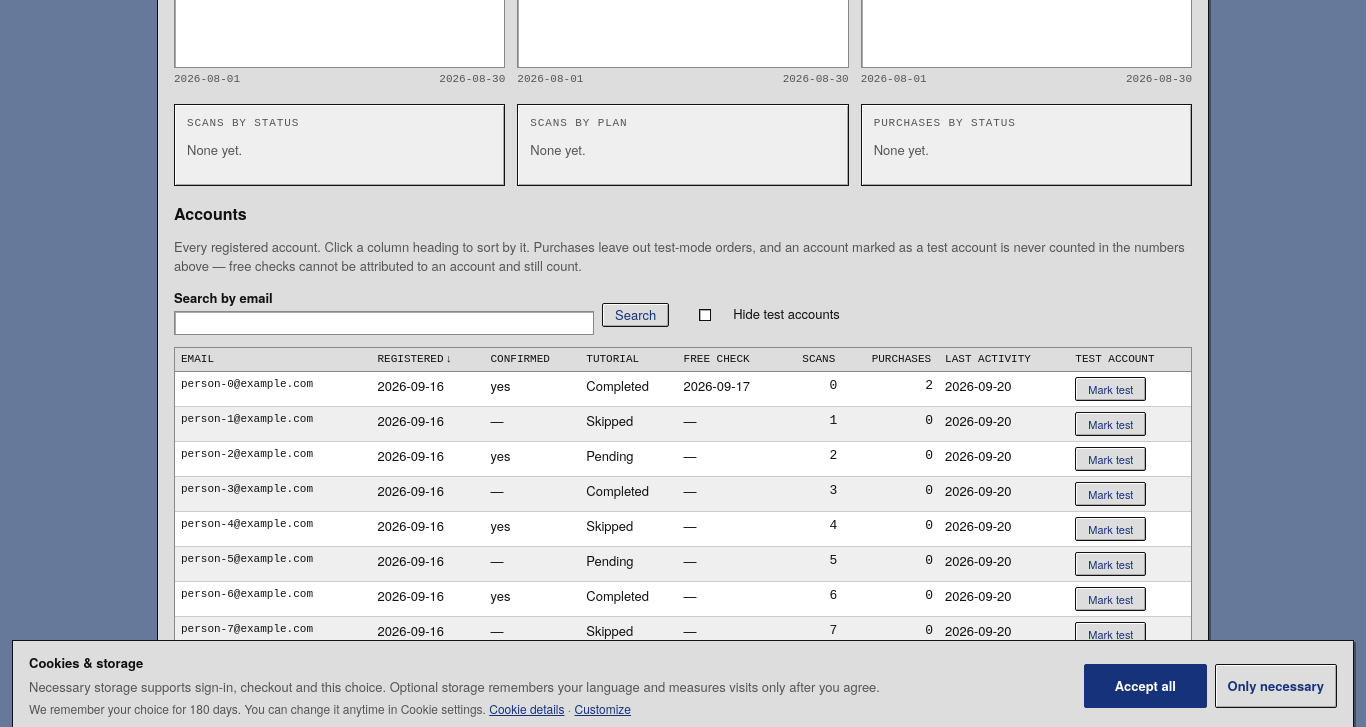
it: owner dashboard accounts list — test filter and sorting › Clear removes only the search, keeping the sort and the test filter
(page scrolled)
Expected: the text "person-0@example.com" is shown, [175,372,372,407]
Click the button "Scans" at (820, 359), box [802,353,837,365]
(page scrolled)
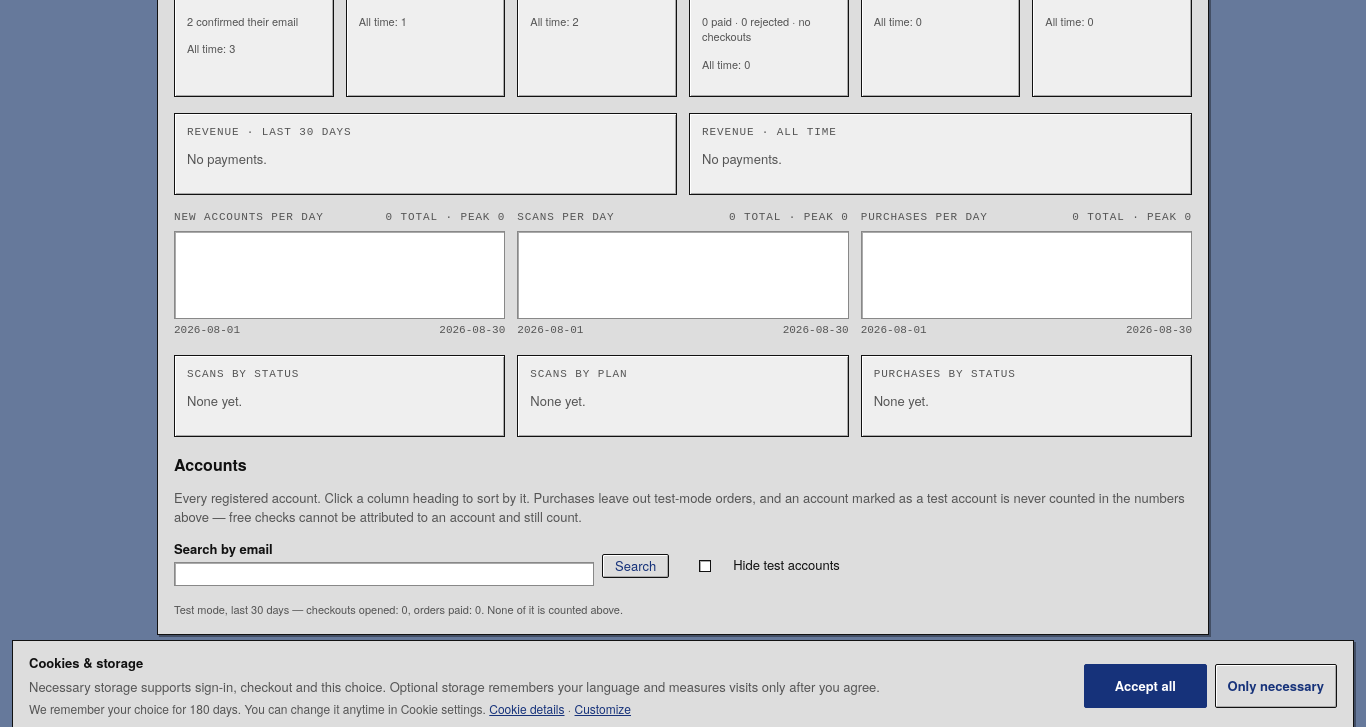
Click the checkbox labelled "Hide test accounts" at (769, 565), box [699,555,840,574]
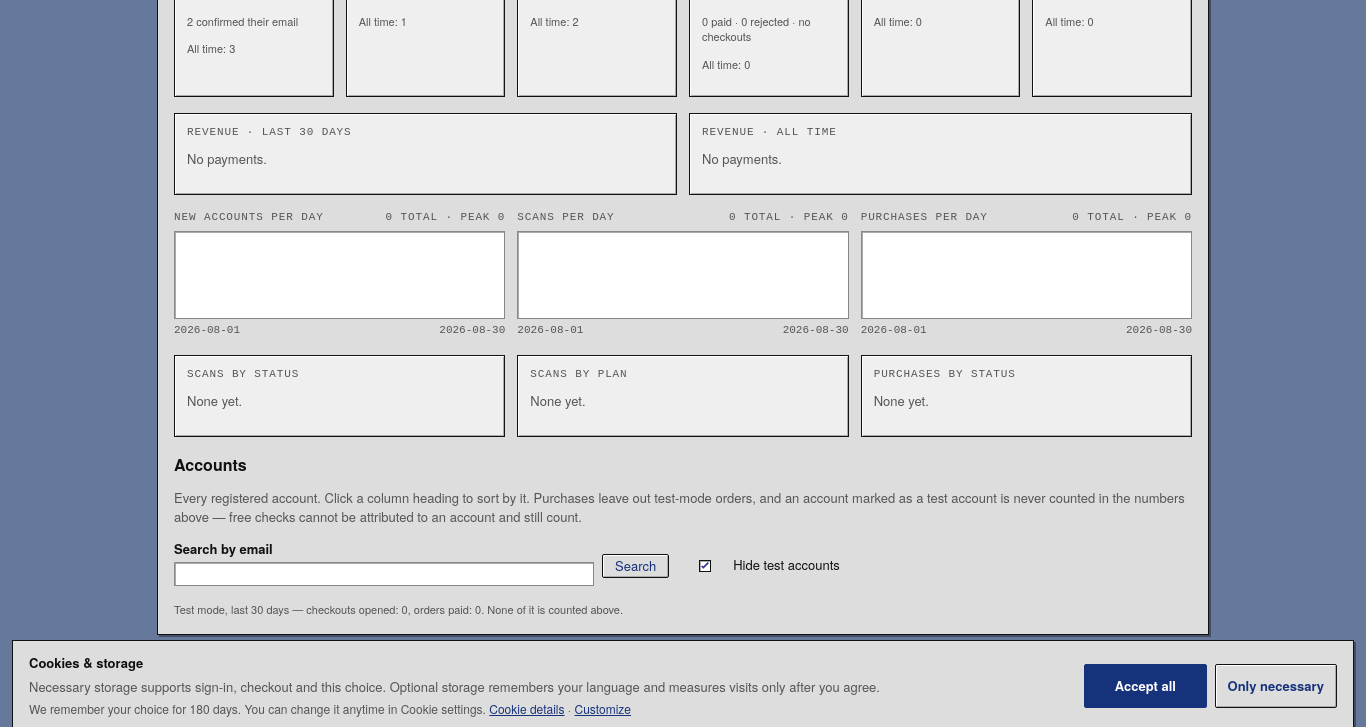
Type "person-1" into the field labelled "Search by email" at (384, 574), box [174,562,594,586]
(page scrolled)
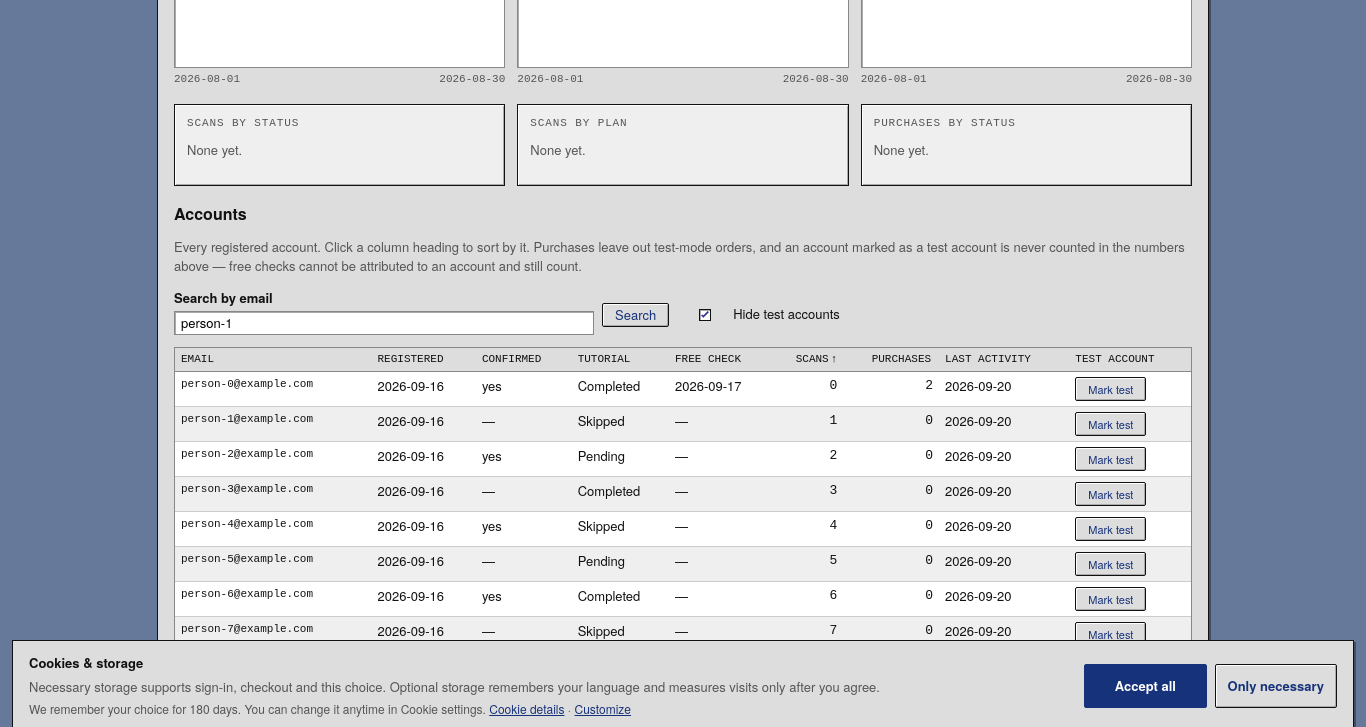
Click the button "Search" at (636, 315), box [602,303,669,327]
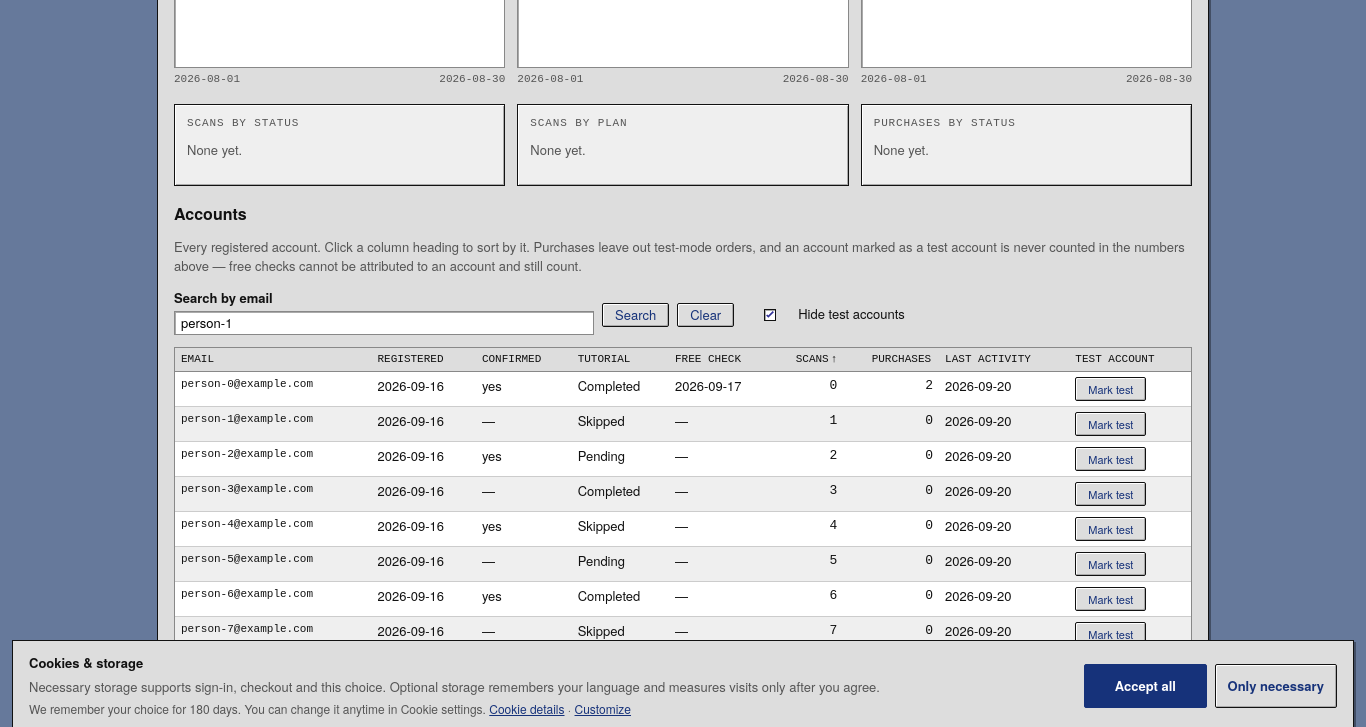
Click the button "Clear" at (706, 315), box [677,303,734,327]
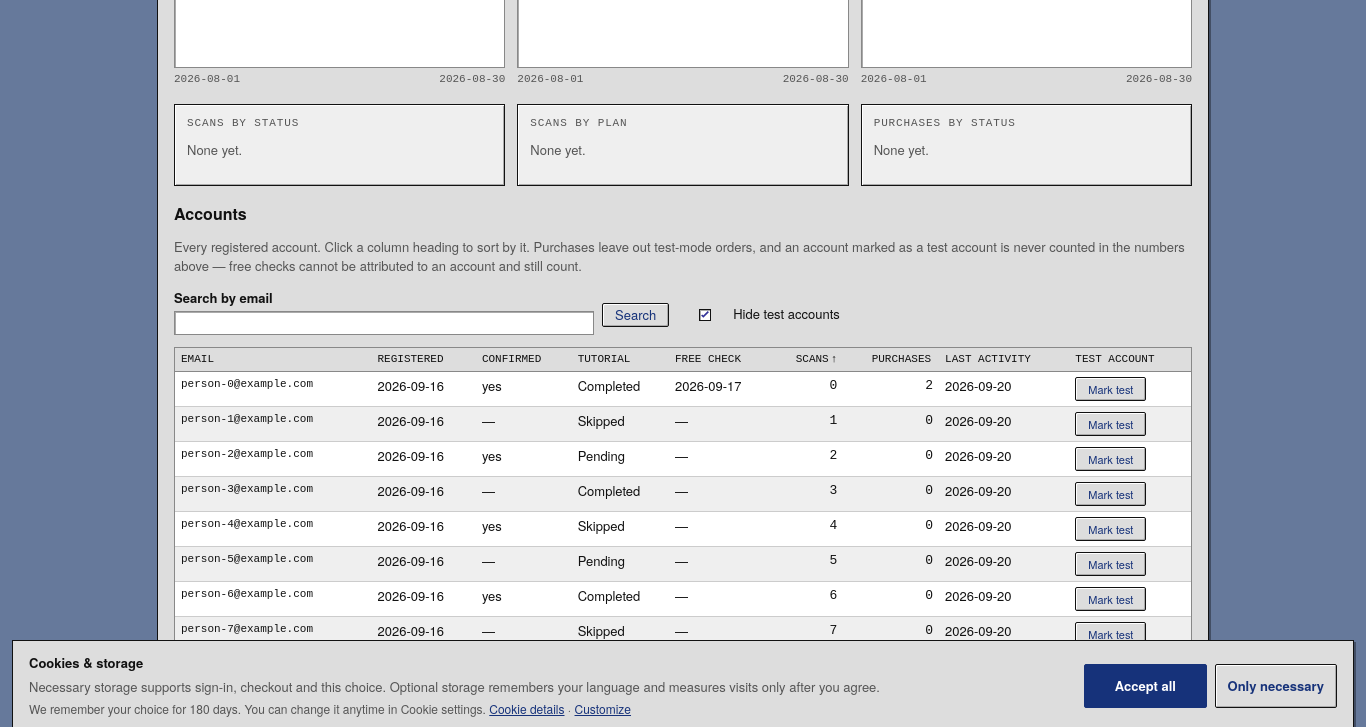
Result: the field labelled "Search by email" is empty at [174,311,594,335]
